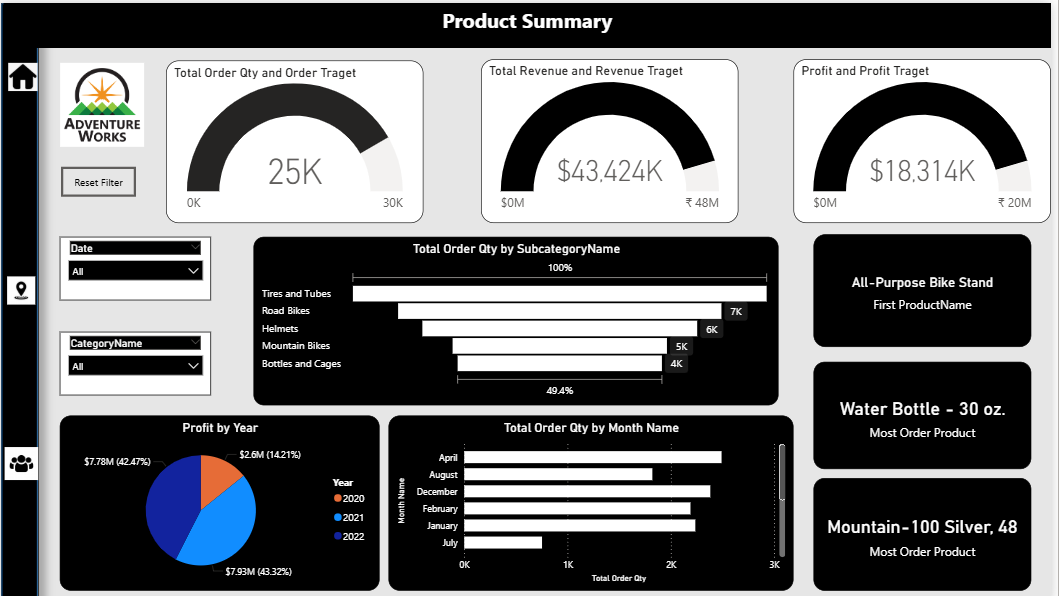

This screenshot's page, from the dashboard's own definition file:
{"tool":"powerbi","page":{"name":"Product Information","canvas":[1400,800],"ordinal":3},"visuals":[{"type":"actionButton","box":[0,0,100,40],"z":0},{"type":"shape","box":[0,0,50,800],"z":1000},{"type":"image","box":[50,75,170,121.7],"z":2000},{"type":"image","box":[0,74.7,58.4,47.6],"z":3000},{"type":"image","box":[2.7,353.3,47.6,59.8],"z":4000},{"type":"image","box":[0,581.5,54.3,65.2],"z":5000},{"type":"gauge","fields":{"Y":["Measure Table.Total Order"],"MaxValue":["Measure Table.Order Traget"]},"box":[220,76.7,343.3,216.7],"z":6000},{"type":"gauge","fields":{"Y":["Measure Table.Total Revenue"],"MaxValue":["Measure Table.Revenue Traget"]},"box":[640,75,343.3,218.3],"z":7000},{"type":"gauge","fields":{"Y":["Measure Table.Profit"],"MaxValue":["Measure Table.Profit Traget"]},"box":[1056.7,75,343.3,218.3],"z":8000},{"type":"card","fields":{"Values":["Min(Product Lookup.ProductName)"]},"box":[1083.3,478.3,290,143.3],"z":9000},{"type":"card","fields":{"Values":["Min(Product Lookup.ProductName)"]},"box":[1083.3,633.3,290,150],"z":10000},{"type":"card","fields":{"Values":["Min(Product Lookup.ProductName)"]},"box":[1083.3,308.3,290,150],"z":11000},{"type":"funnel","fields":{"Category":["Product Subcategories Lookup.SubcategoryName"],"Y":["Measure Table.Total Order"]},"box":[336.7,311.7,700,225],"z":12000},{"type":"slicer","fields":{"Values":["Calendar Lookup.Date"]},"box":[78.3,311.7,201.7,85],"z":13000},{"type":"slicer","fields":{"Values":["Product Categories Lookup.CategoryName"]},"box":[78.3,438.3,201.7,85],"z":14000},{"type":"actionButton","box":[80,218.3,100,40],"z":15000},{"type":"pieChart","fields":{"Category":["Calendar Lookup.Year"],"Y":["Measure Table.Profit"]},"box":[78.3,550,426.7,233.3],"z":16000},{"type":"textbox","box":[3.3,0,1396.7,60],"z":16001},{"type":"barChart","fields":{"Category":["Calendar Lookup.Month Name"],"Y":["Measure Table.Total Order"]},"box":[516.7,550,540,233.3],"z":16002}]}

Visuals, with their boxes in screenshot pixels (x1, y1, x2, y2), scaled from the page's 1400x800 canvas onto the 1059x596 screenshot:
actionButton: BBox(0, 0, 76, 30)
shape: BBox(0, 0, 38, 595)
image: BBox(38, 56, 166, 147)
image: BBox(0, 56, 44, 91)
image: BBox(2, 263, 38, 308)
image: BBox(0, 433, 41, 482)
gauge - Measure Table.Total Order x Measure Table.Order Traget: BBox(166, 57, 426, 219)
gauge - Measure Table.Total Revenue x Measure Table.Revenue Traget: BBox(484, 56, 744, 219)
gauge - Measure Table.Profit x Measure Table.Profit Traget: BBox(799, 56, 1058, 219)
card - Min(Product Lookup.ProductName): BBox(819, 356, 1039, 463)
card - Min(Product Lookup.ProductName): BBox(819, 472, 1039, 584)
card - Min(Product Lookup.ProductName): BBox(819, 230, 1039, 341)
funnel - Product Subcategories Lookup.SubcategoryName x Measure Table.Total Order: BBox(255, 232, 784, 400)
slicer - Calendar Lookup.Date: BBox(59, 232, 212, 296)
slicer - Product Categories Lookup.CategoryName: BBox(59, 327, 212, 390)
actionButton: BBox(61, 163, 136, 192)
pieChart - Calendar Lookup.Year x Measure Table.Profit: BBox(59, 410, 382, 584)
textbox: BBox(2, 0, 1058, 45)
barChart - Calendar Lookup.Month Name x Measure Table.Total Order: BBox(391, 410, 799, 584)
